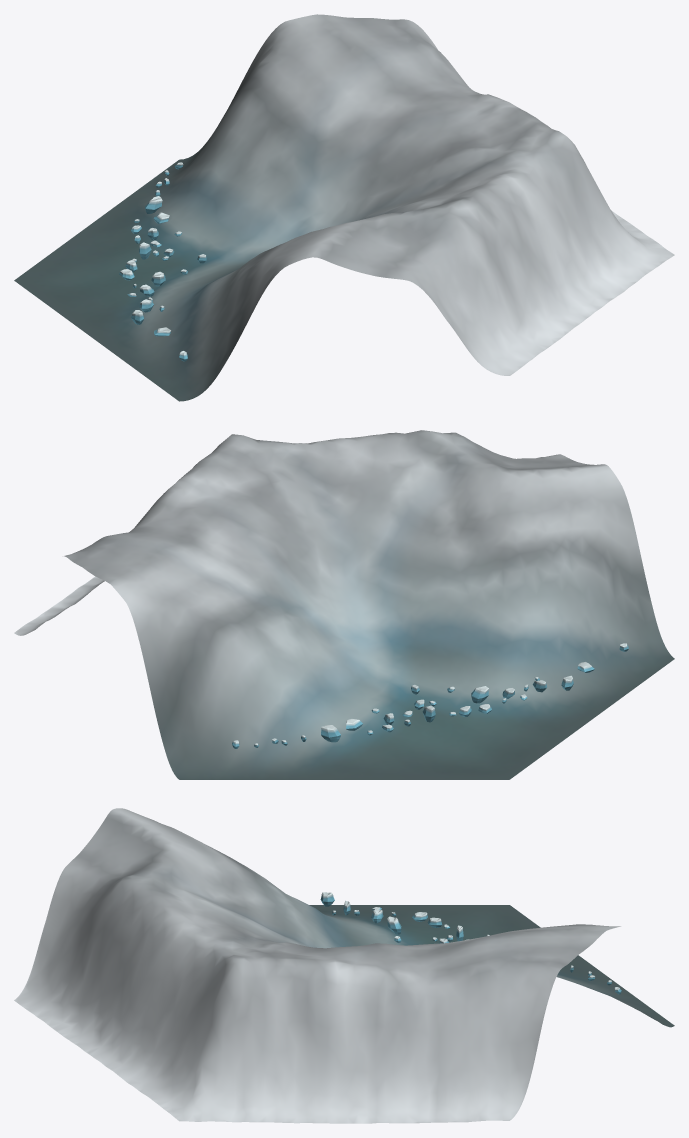
Rendered from costa_+02_-10.glb.
The picture shows the model from 3 angles, top to bottom: view 1: azimuth 30°, elevation 25°; view 2: azimuth 150°, elevation 25°; view 3: azimuth 270°, elevation 25°; orthographic projection.
Parts seen in each view (by area): view 1: terrain, Formações costeiras; view 2: terrain, Formações costeiras; view 3: terrain, Formações costeiras.
Boxes of the visible parts, x1,y1,x2,y2 form: terrain: (14, 14, 674, 401); Formações costeiras: (119, 162, 206, 361); terrain: (14, 430, 674, 779); Formações costeiras: (232, 643, 628, 748); terrain: (14, 808, 674, 1123); Formações costeiras: (320, 892, 621, 994).
Bounding box in the file's own units: 4330 × 1262 × 5000.
Materials: 1 (1 with a texture image).
